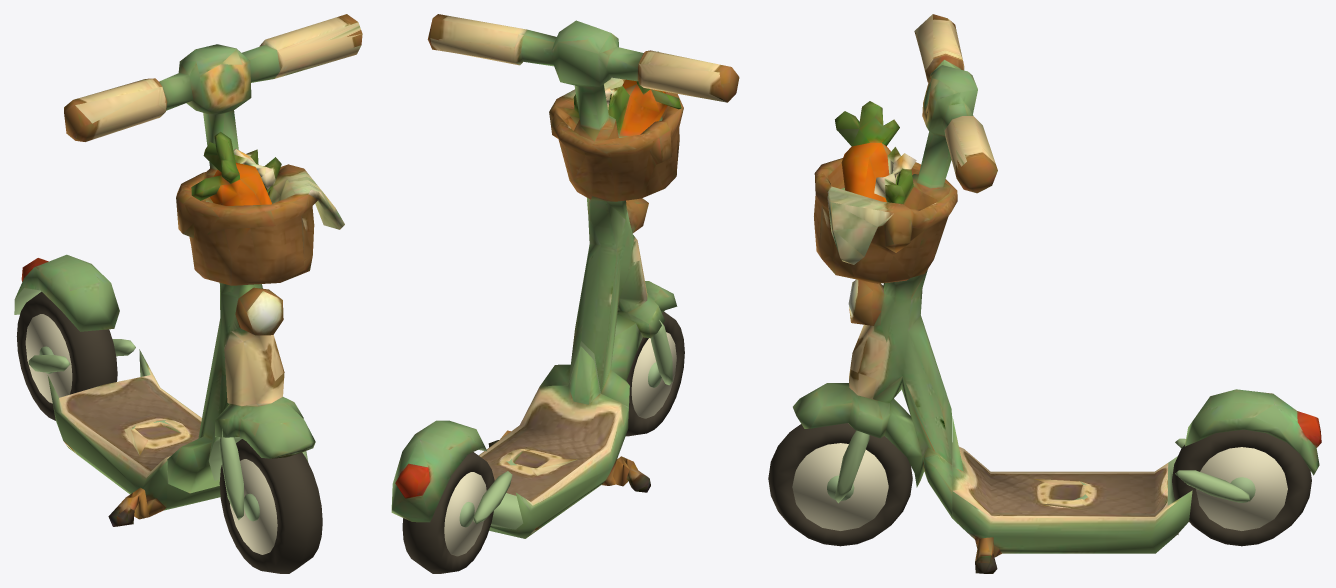
The picture shows the model from 3 angles, left to right: view 1: azimuth 30°, elevation 25°; view 2: azimuth 150°, elevation 25°; view 3: azimuth 270°, elevation 25°; orthographic projection. The views are drawn at different scales.
Visible parts, largest first — view 1: tripo_mesh_caba9cc8-8769-4b67-b362-f041629eba61.004, body, wheel_front, wheel_rear; view 2: tripo_mesh_caba9cc8-8769-4b67-b362-f041629eba61.004, body, wheel_rear, wheel_front; view 3: tripo_mesh_caba9cc8-8769-4b67-b362-f041629eba61.004, body, wheel_front, wheel_rear.
Boxes of the visible parts, x1,y1,x2,y2 form: tripo_mesh_caba9cc8-8769-4b67-b362-f041629eba61.004: (64, 14, 362, 520); body: (14, 254, 220, 526); wheel_front: (219, 439, 322, 573); wheel_rear: (16, 291, 117, 420); tripo_mesh_caba9cc8-8769-4b67-b362-f041629eba61.004: (427, 14, 739, 418); body: (391, 346, 650, 538); wheel_rear: (402, 452, 494, 573); wheel_front: (626, 311, 684, 436); tripo_mesh_caba9cc8-8769-4b67-b362-f041629eba61.004: (793, 14, 997, 518); body: (952, 389, 1321, 573); wheel_front: (768, 423, 912, 546); wheel_rear: (1172, 429, 1311, 546).
Size of the model in its own units: 0.638 by 0.9495 by 1.01.
5 materials, 1 textured.
